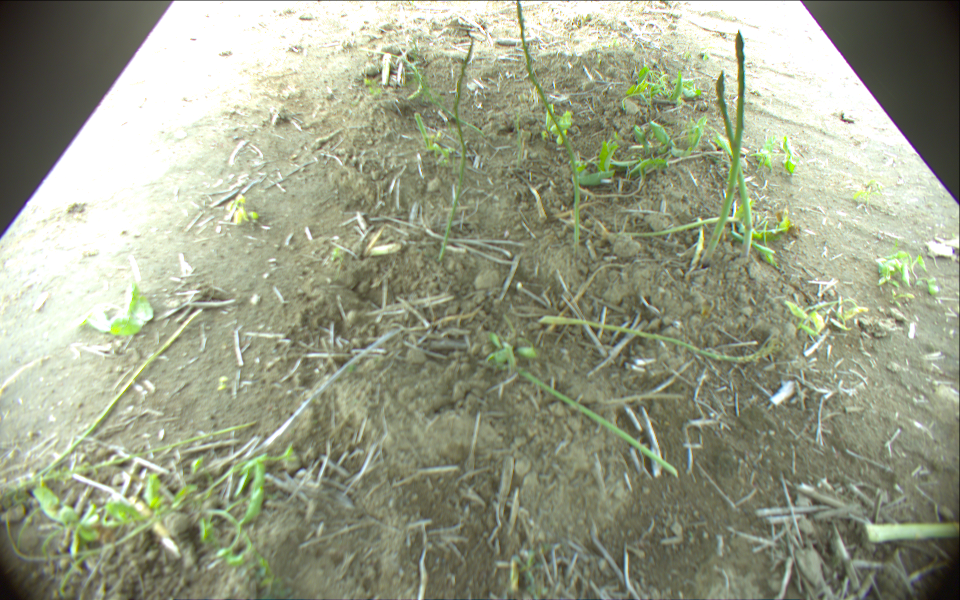aspa: (25, 309, 203, 479), (496, 361, 679, 478), (10, 420, 256, 490), (515, 1, 583, 250), (538, 314, 777, 369), (703, 30, 747, 261), (438, 39, 478, 263), (715, 71, 754, 259), (358, 44, 424, 99), (598, 216, 742, 237), (866, 522, 960, 541), (412, 111, 433, 148), (379, 50, 394, 86)
